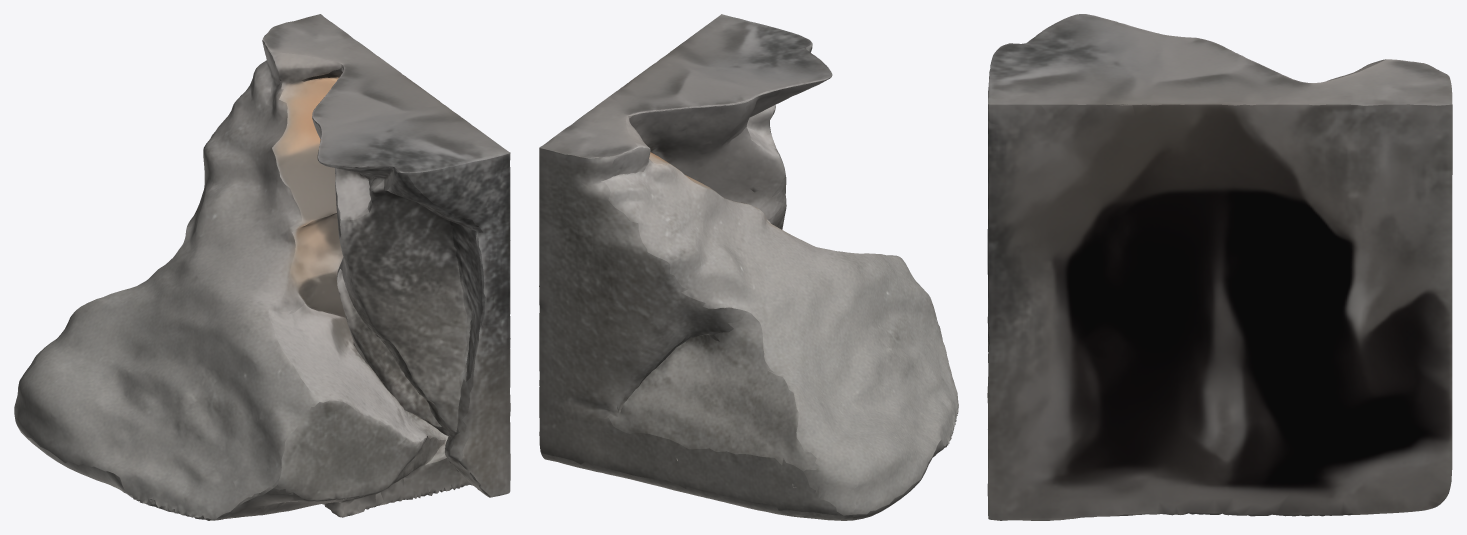
3 renders of one model, left to right at view 1: azimuth 30°, elevation 25°; view 2: azimuth 150°, elevation 25°; view 3: azimuth 270°, elevation 25°, orthographic. The views are drawn at different scales.
Parts seen in each view (by area): view 1: world; view 2: world; view 3: world.
Part boxes in pixels (x1=…): world: x1=14, y1=14, x2=510, y2=520; world: x1=539, y1=14, x2=958, y2=520; world: x1=987, y1=14, x2=1452, y2=520.
Size of the model in its own units: 0.8 by 0.7916 by 0.7997.
1 material, 1 textured.
